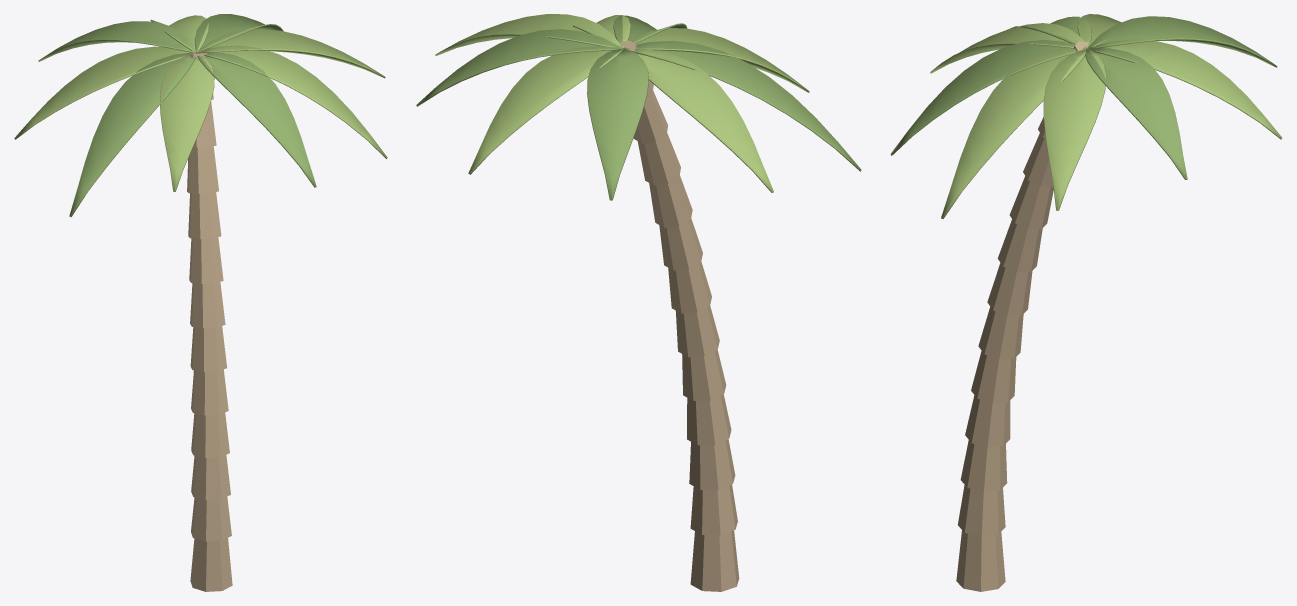
File: Palm_3.gltf
3 views of the same model, side by side, from view 1: azimuth 30°, elevation 25°; view 2: azimuth 150°, elevation 25°; view 3: azimuth 270°, elevation 25° (orthographic). The views are drawn at different scales.
Visible parts, largest first — view 1: Palm_3; view 2: Palm_3; view 3: Palm_3.
Boxes of the visible parts, x1=… form: Palm_3: x1=14, y1=14, x2=387, y2=591; Palm_3: x1=416, y1=14, x2=861, y2=591; Palm_3: x1=890, y1=14, x2=1282, y2=591.
Bounding box in the file's own units: 3.85 × 5.32 × 3.39.
